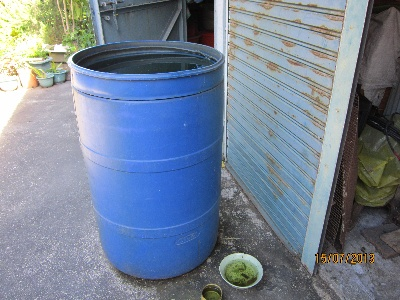bucket: (67, 39, 227, 282)
plastic_bag: (358, 129, 399, 210)
plate: (217, 251, 267, 290)
